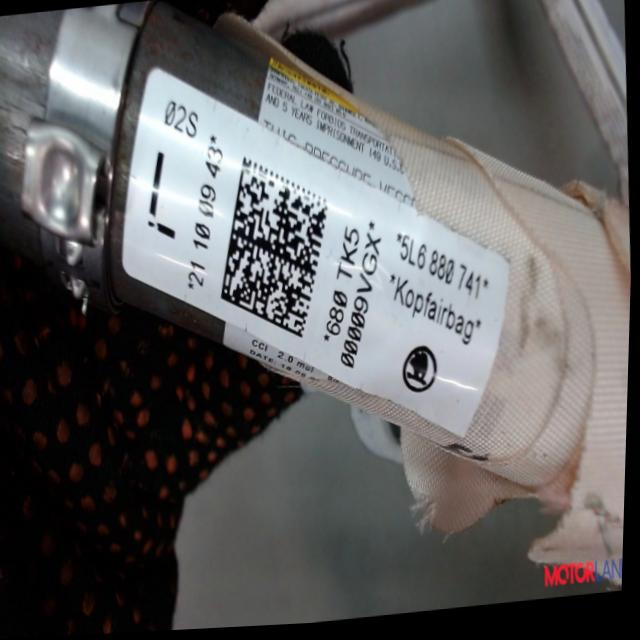datamatrix: (216, 153, 339, 350)
